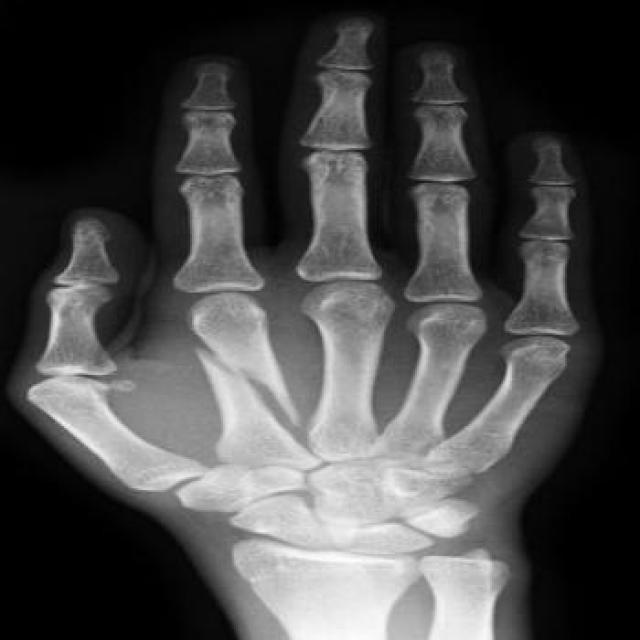Fracture: (188, 337, 313, 436)
